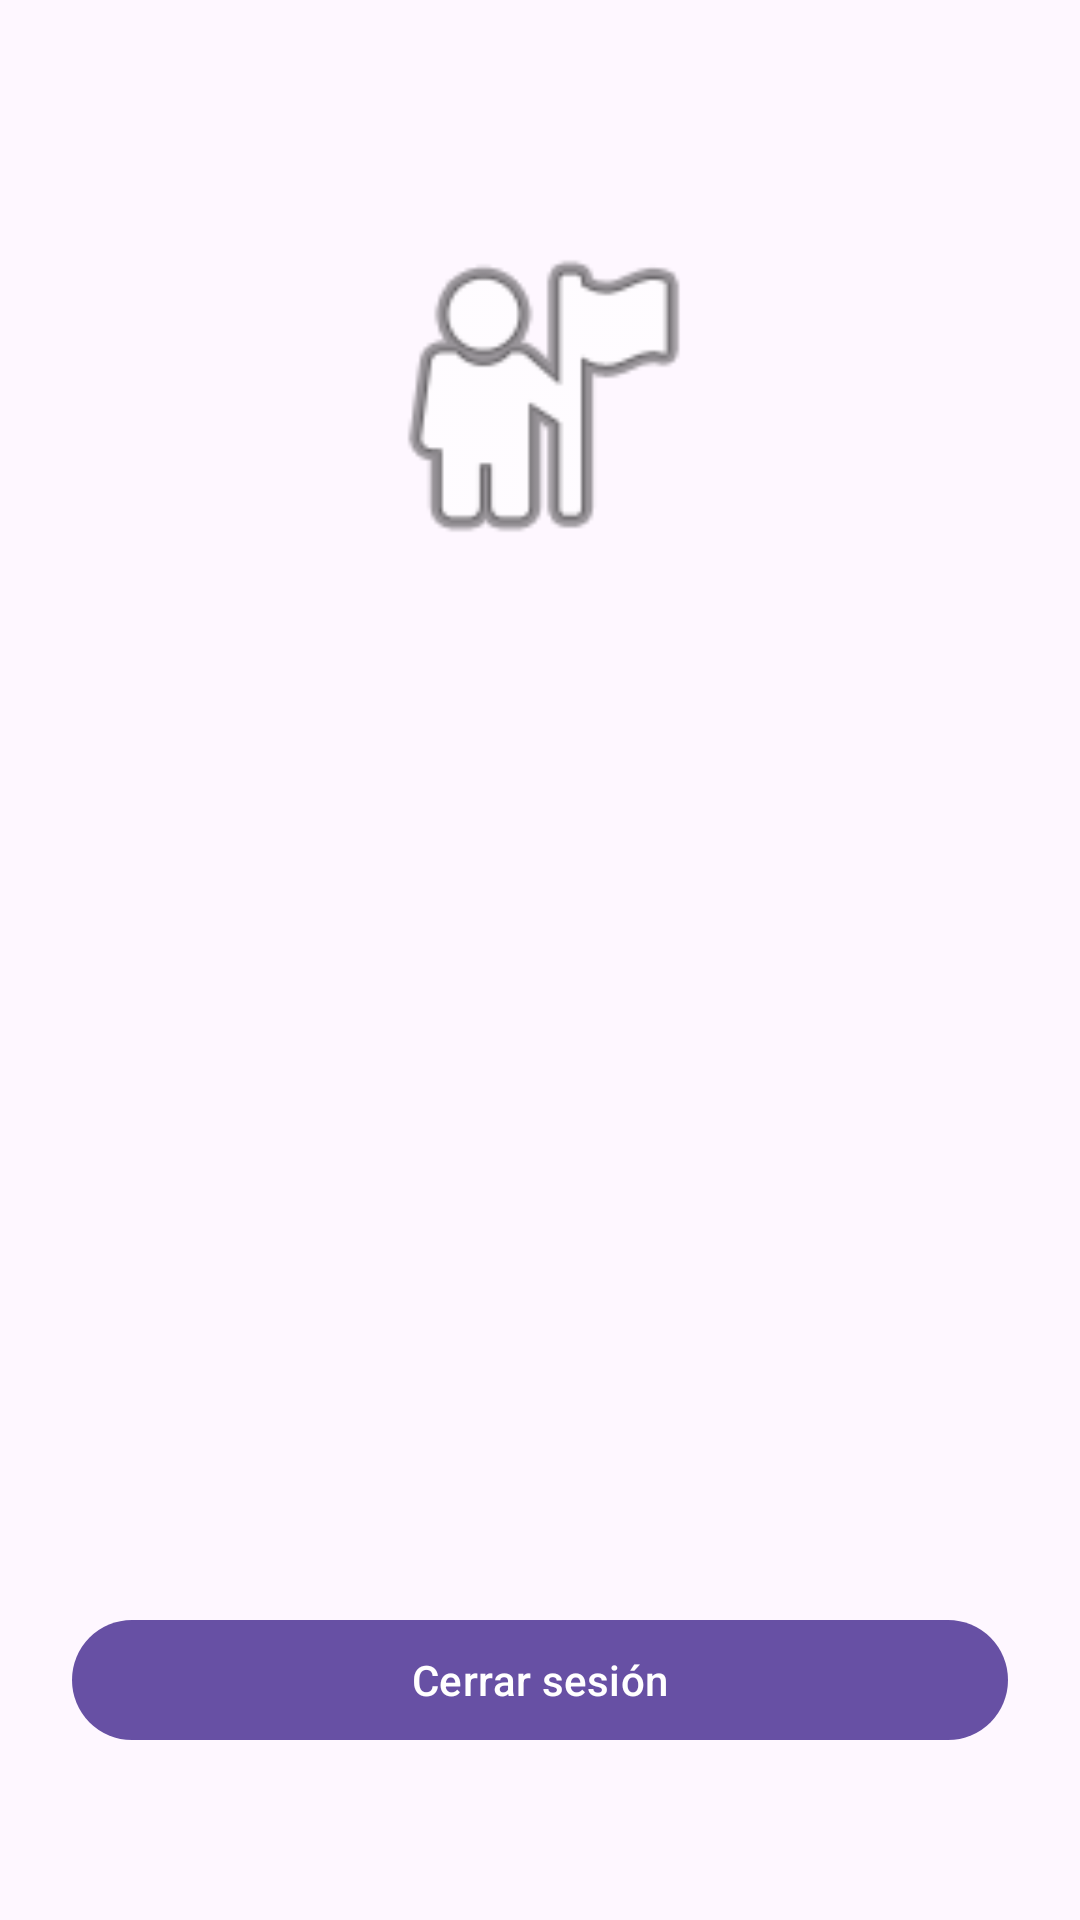

Where to tap for icons on this 1080x1920 app screen, as (x,y):
Foto de perfil del usuario: (543,396)
